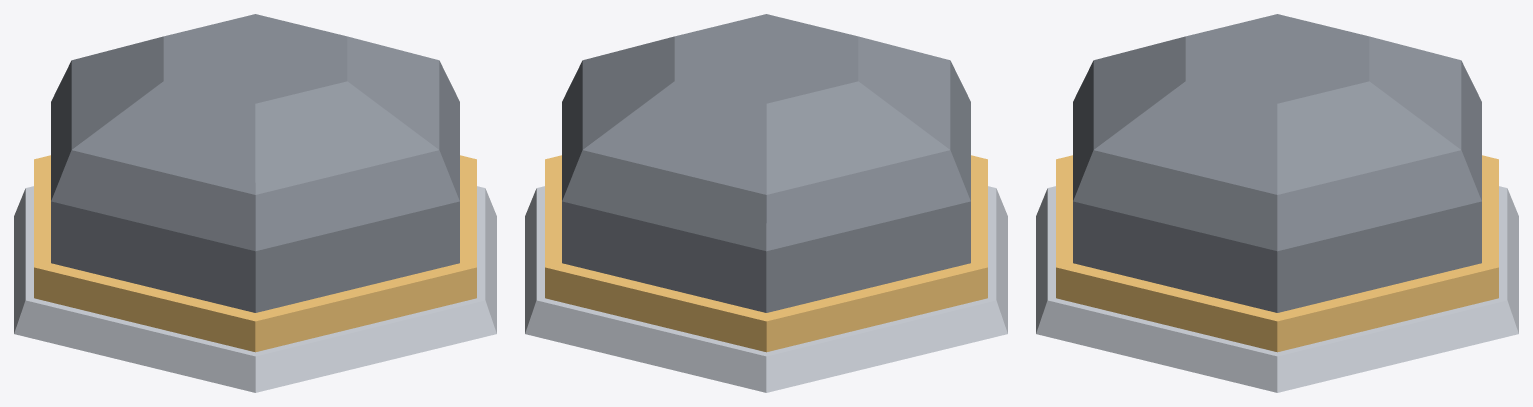
The model's file is greenhouse.glb.
3 renders of one model, left to right at view 1: azimuth 30°, elevation 25°; view 2: azimuth 150°, elevation 25°; view 3: azimuth 270°, elevation 25°, orthographic.
Visible parts, largest first — view 1: hangar_roundGlass; view 2: hangar_roundGlass; view 3: hangar_roundGlass.
Boxes of the visible parts, x1,y1,x2,y2 form: hangar_roundGlass: (14, 14, 496, 392); hangar_roundGlass: (525, 14, 1007, 392); hangar_roundGlass: (1036, 14, 1518, 392).
Size of the model in its own units: 3.27 by 1.4 by 2.83.
Materials: 1 (1 with a texture image).
